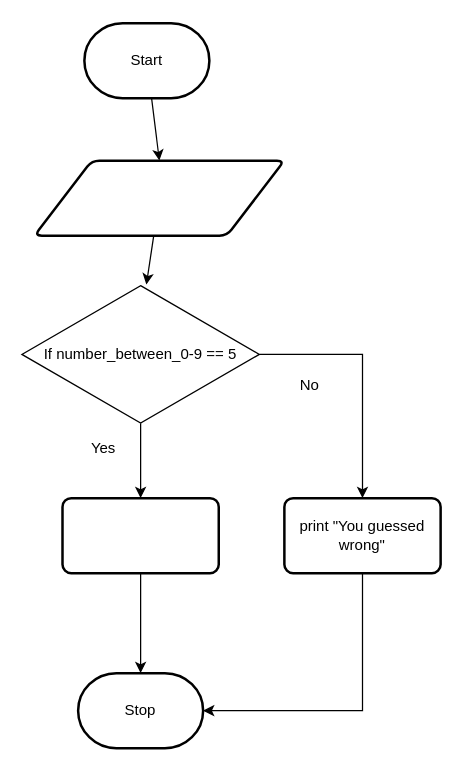
Some shapes in this 464 by 770 pixel diagram are drawn without their labels. Here are the shapes that lost their labels. From the top down, the centre of each, then its label:
the point at 158,197: Get number_between_0-9
the point at 140,535: print "You guessed right"
